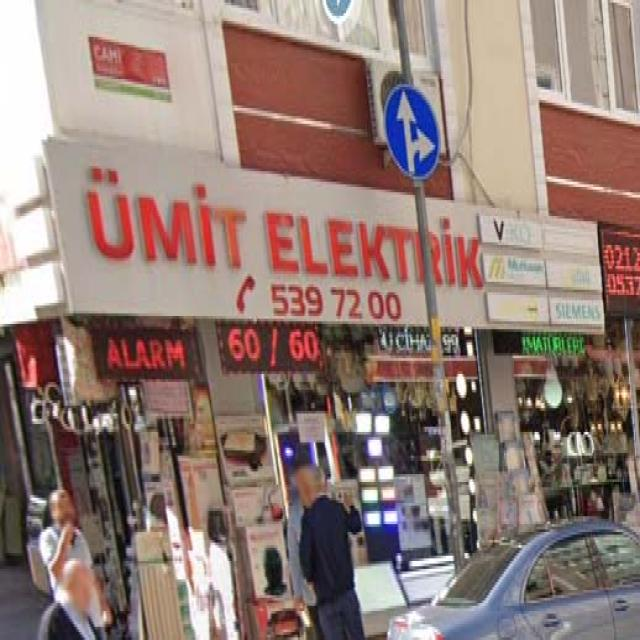ilerisag: (383, 84, 440, 182)
